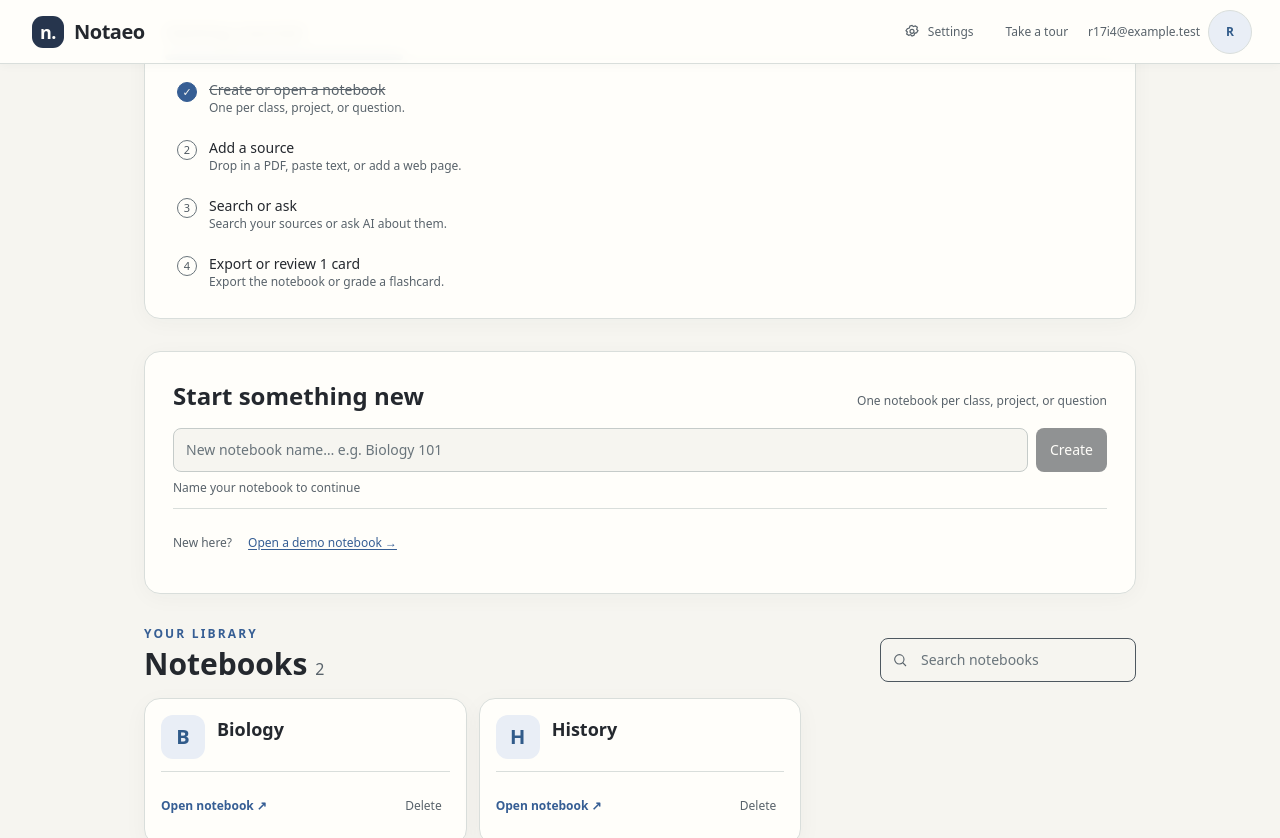
Test case: export-win clears the save-win
The image size is (1280, 838).
(page scrolled)
Click the button with aria-label "Open Biology" at coordinates (183, 737), box [161,715,450,759]
(page scrolled)
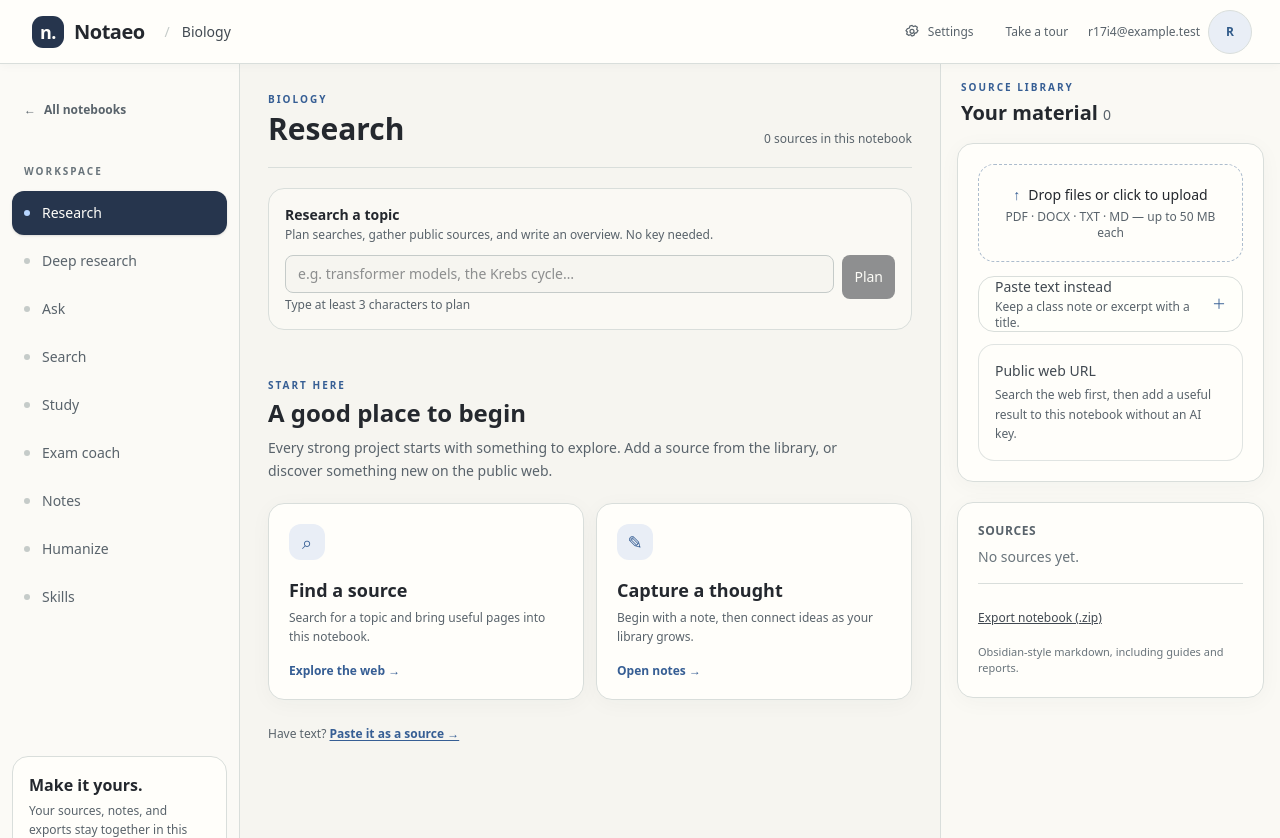
Click the button "Paste text instead" at coordinates (1110, 304), box [978,276,1243,332]
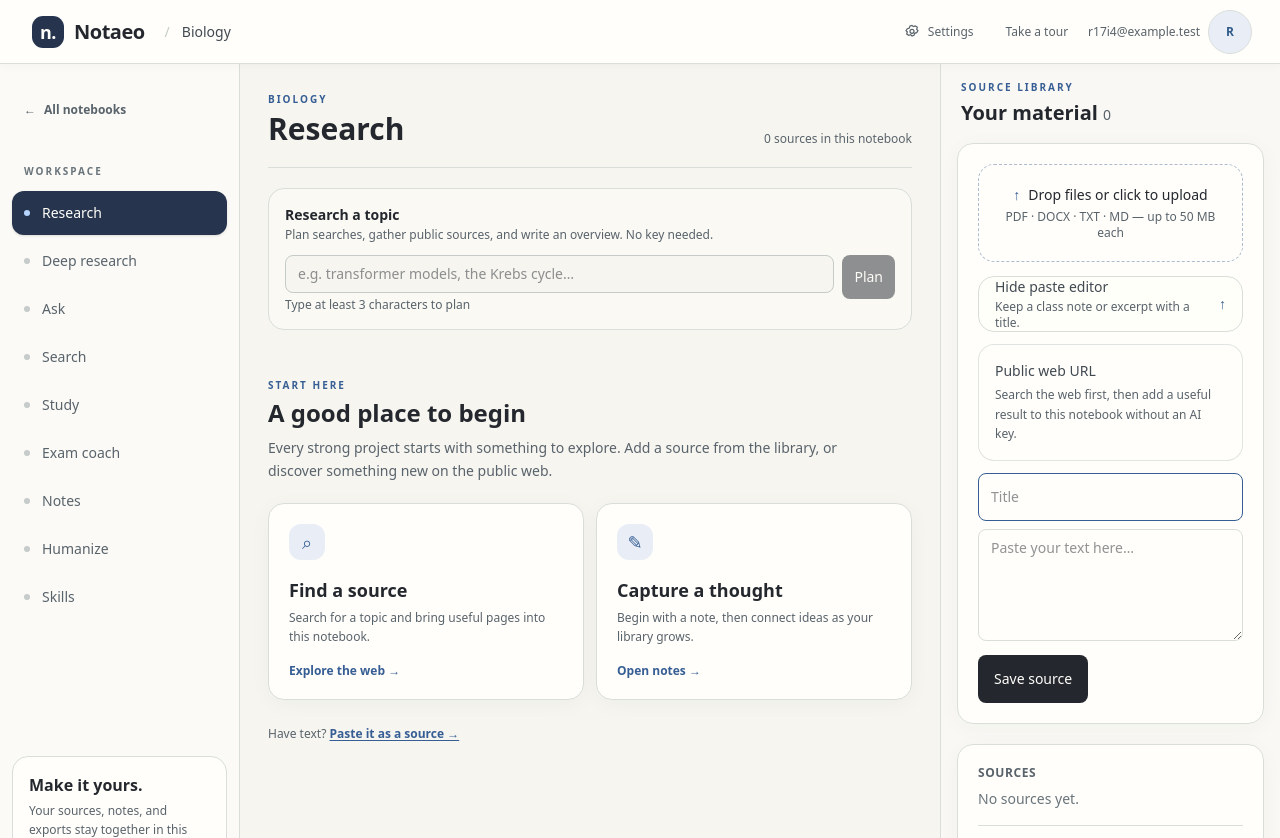
Type "Cells divide in mitosis daily" into the text box named "paste body" at coordinates (1110, 584), box [978,528,1243,640]
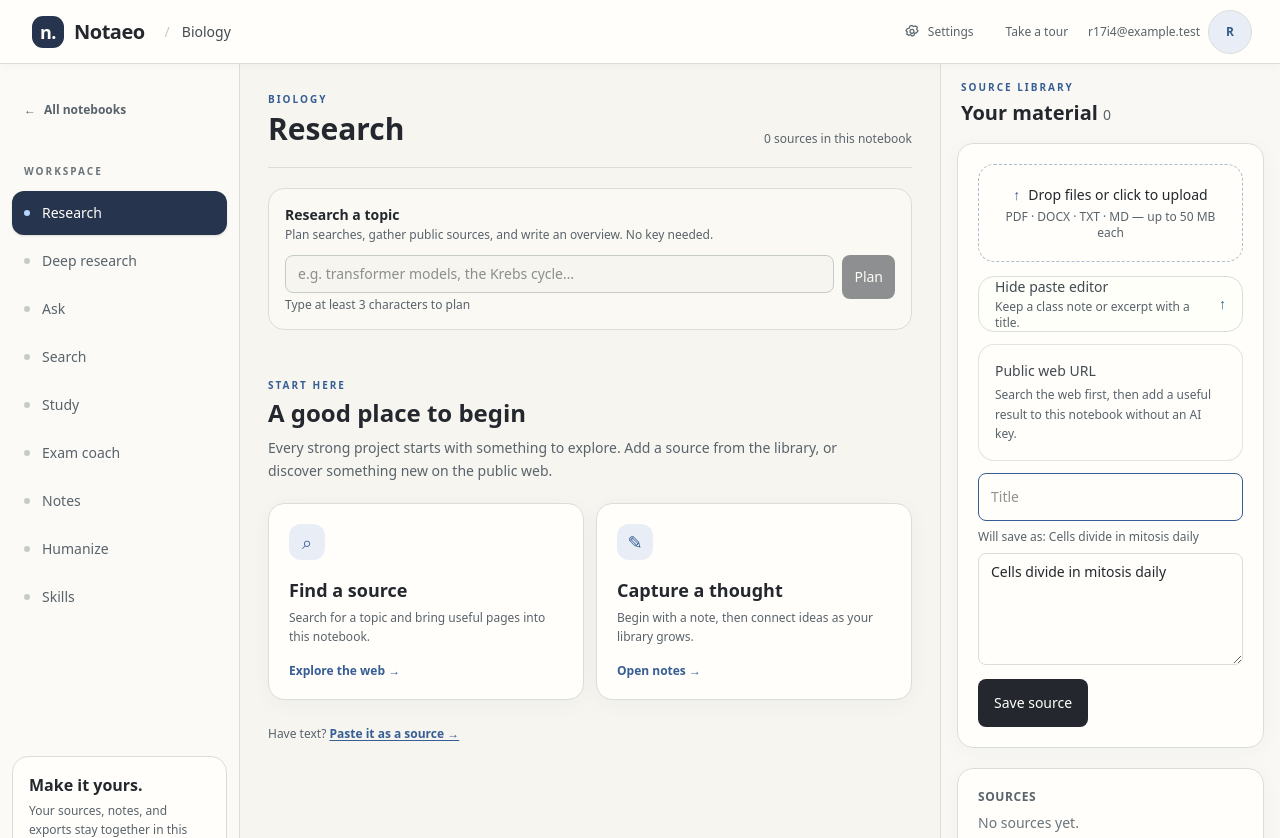
Click the button "Save source" at coordinates (1033, 702), box [978,678,1088,726]
(page scrolled)
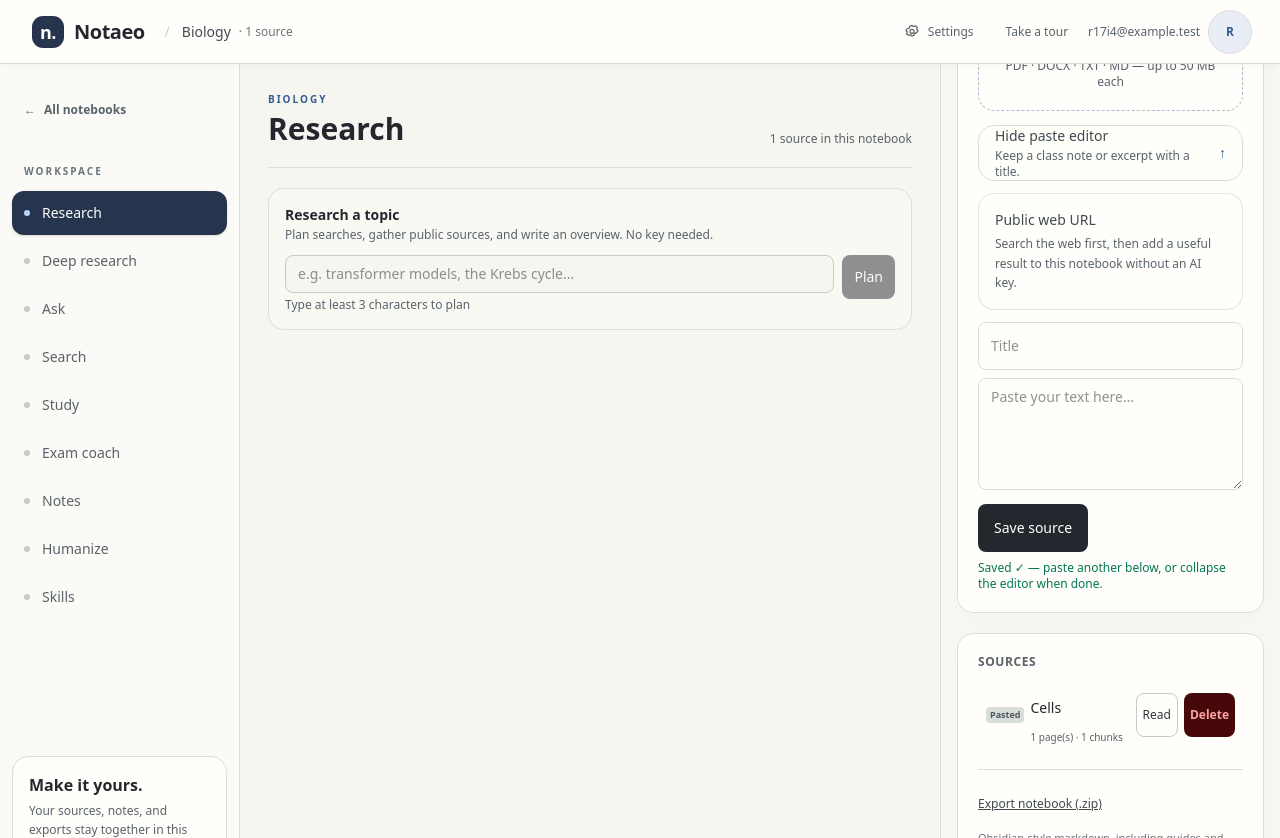
Click the button "Export notebook (.zip)" at coordinates (1040, 804), box [978,782,1102,826]
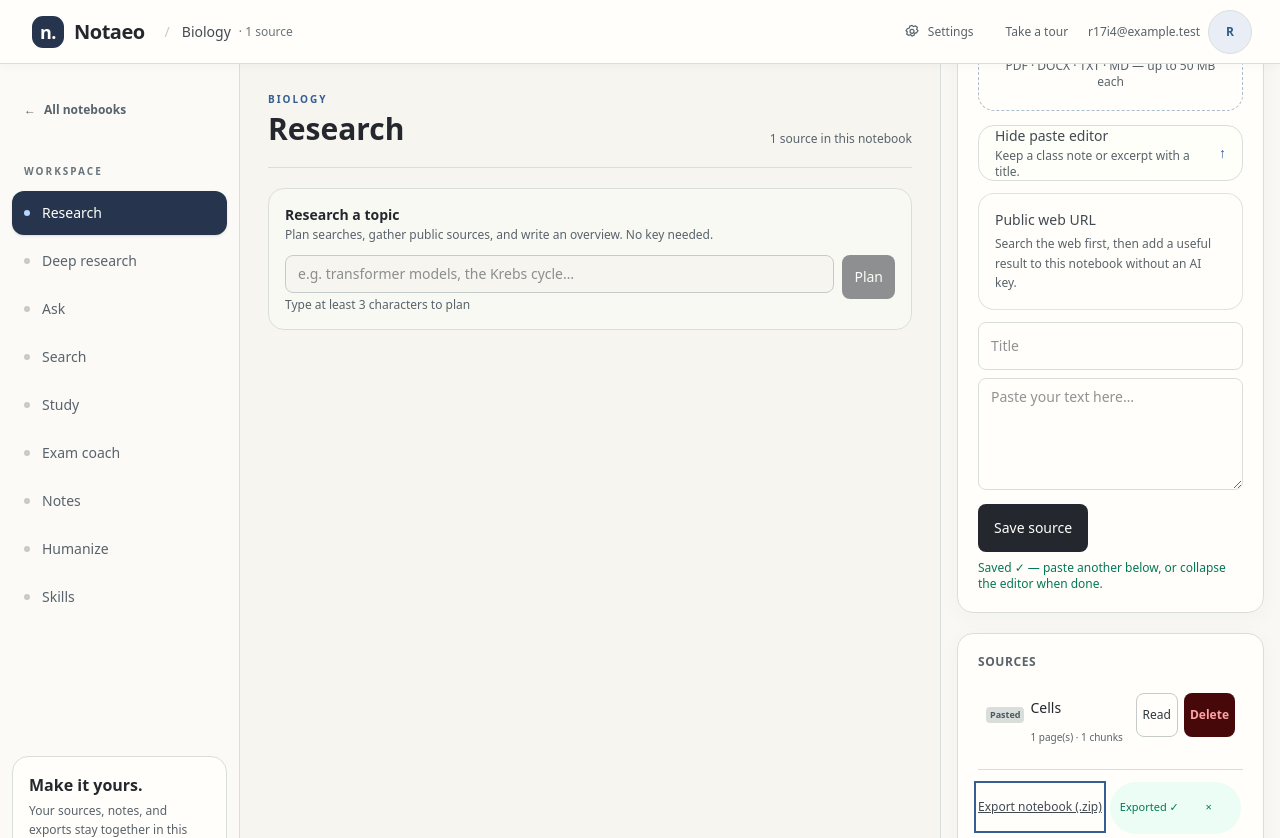
Expected: the field labelled "Save announcement" does not show "first source saved"
Expected: the text "Exported ✓ ×" is shown, [1110,782,1241,834]
